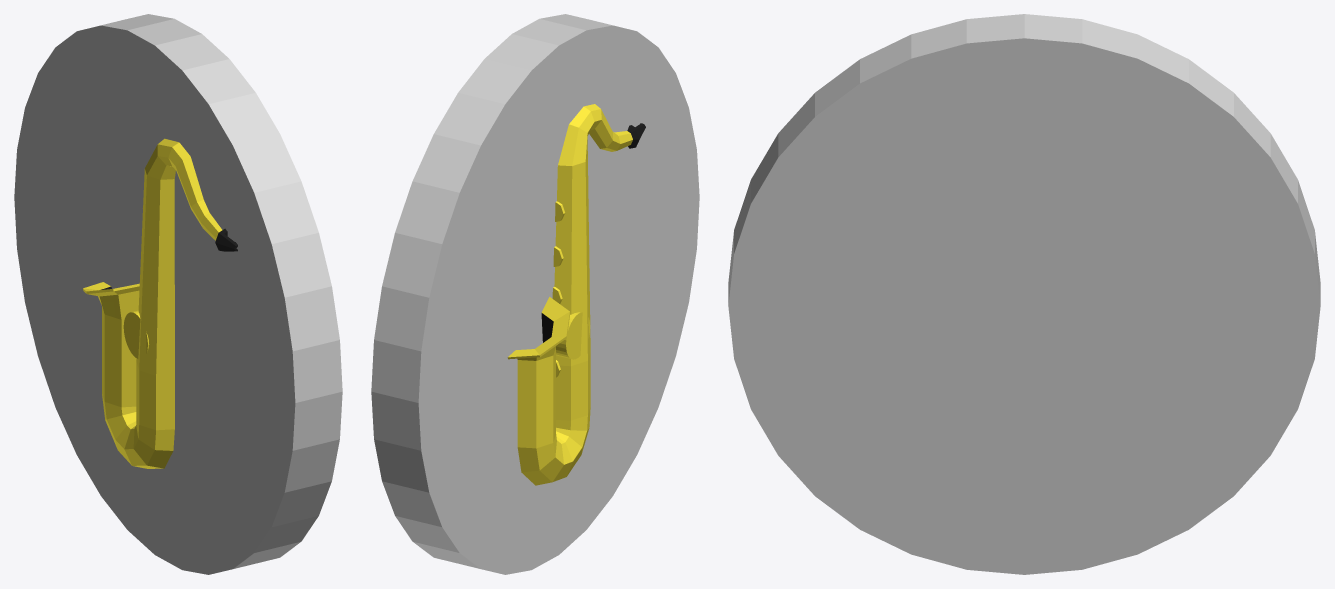
The model's file is sax.gltf.
3 renders of one model, left to right at view 1: azimuth 30°, elevation 25°; view 2: azimuth 150°, elevation 25°; view 3: azimuth 270°, elevation 25°, orthographic. The views are drawn at different scales.
Parts seen in each view (by area): view 1: Cylinder, Saxophone_Circle.003; view 2: Cylinder, Saxophone_Circle.003; view 3: Cylinder.
Boxes of the visible parts, <box> form: Cylinder: <box>14,14,342,574</box>; Saxophone_Circle.003: <box>83,138,237,468</box>; Cylinder: <box>371,14,699,574</box>; Saxophone_Circle.003: <box>507,104,645,485</box>; Cylinder: <box>728,14,1320,574</box>.
Size of the model in its own units: 2.28 by 13.03 by 13.03.
